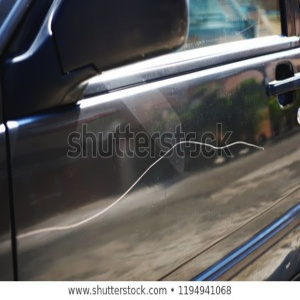door_scratch: (19, 166, 186, 256)
